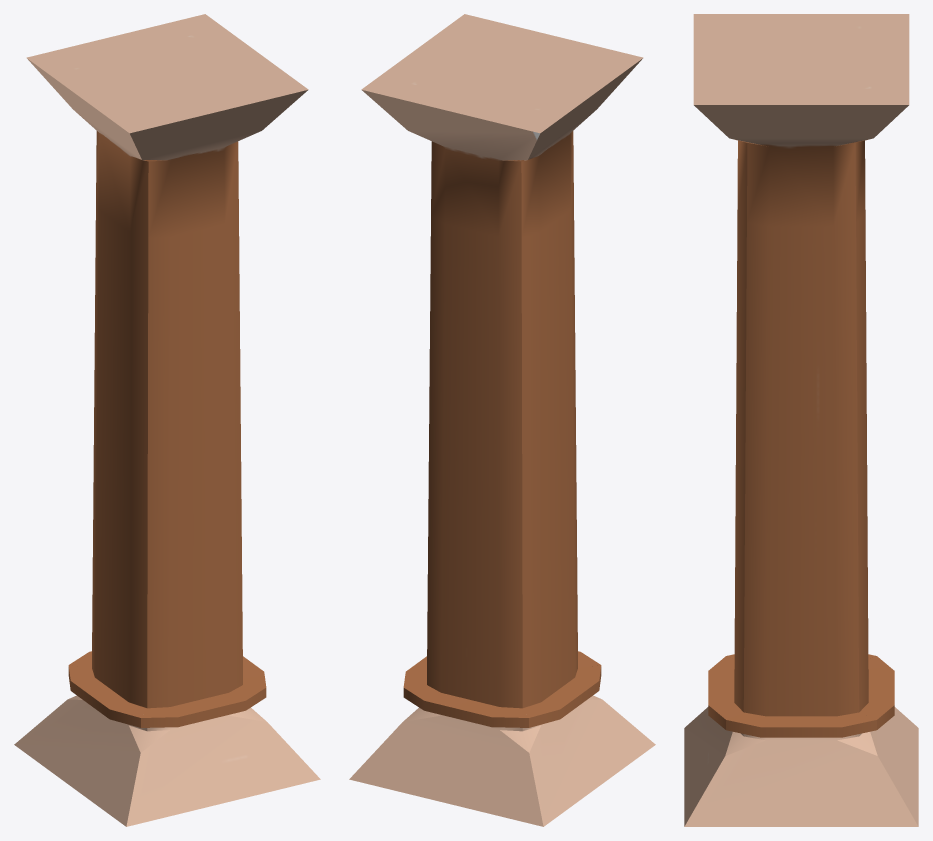
The model's file is SM_Castle_Pillar_1.fbx.
3 renders of one model, left to right at view 1: azimuth 30°, elevation 25°; view 2: azimuth 150°, elevation 25°; view 3: azimuth 270°, elevation 25°, orthographic. The views are drawn at different scales.
Visible parts, largest first — view 1: pCube1; view 2: pCube1; view 3: pCube1.
Part boxes in pixels (<box>): pCube1: <box>14,14,320,826</box>; pCube1: <box>349,14,655,826</box>; pCube1: <box>684,14,918,826</box>.
Bounding box in the file's own units: 105 × 355 × 105.
